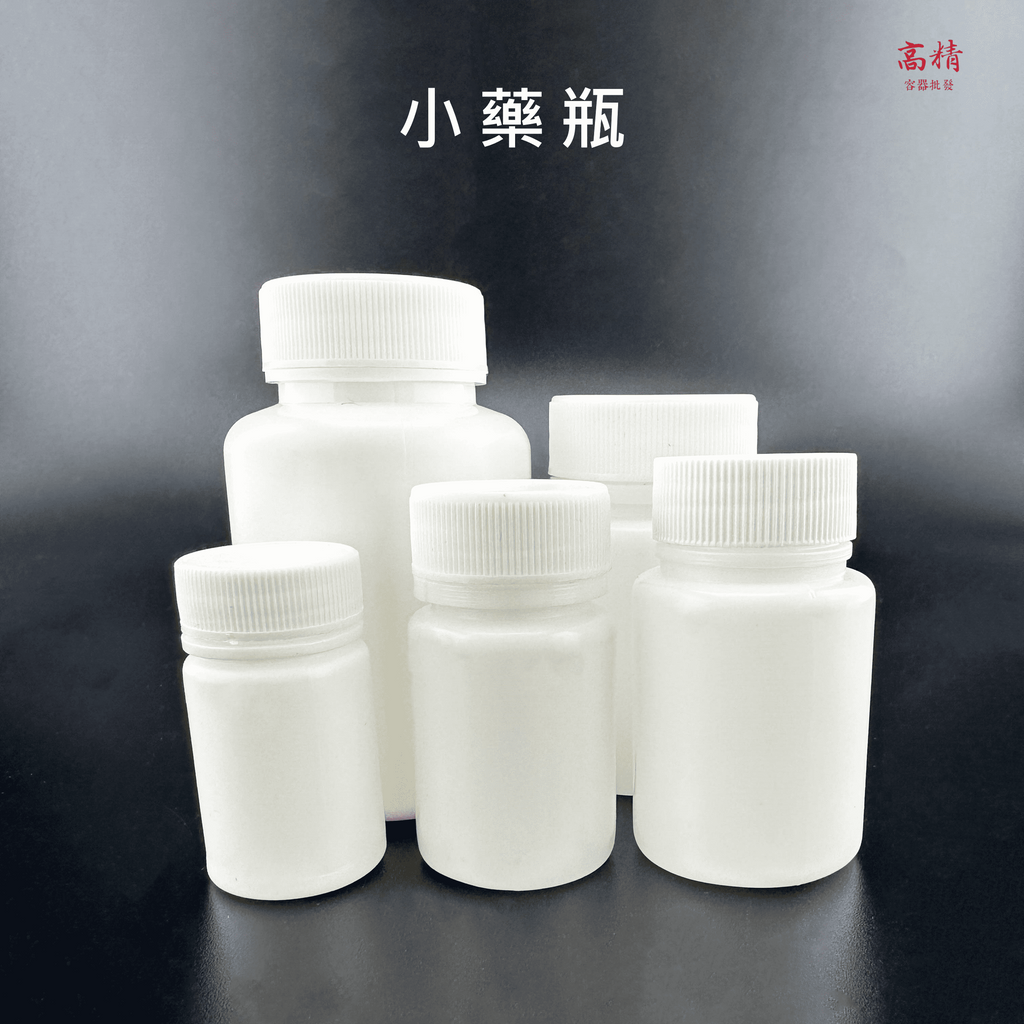medicinejar: (221, 266, 538, 847), (543, 386, 780, 851), (648, 451, 870, 881), (394, 478, 619, 884), (165, 537, 402, 898)
